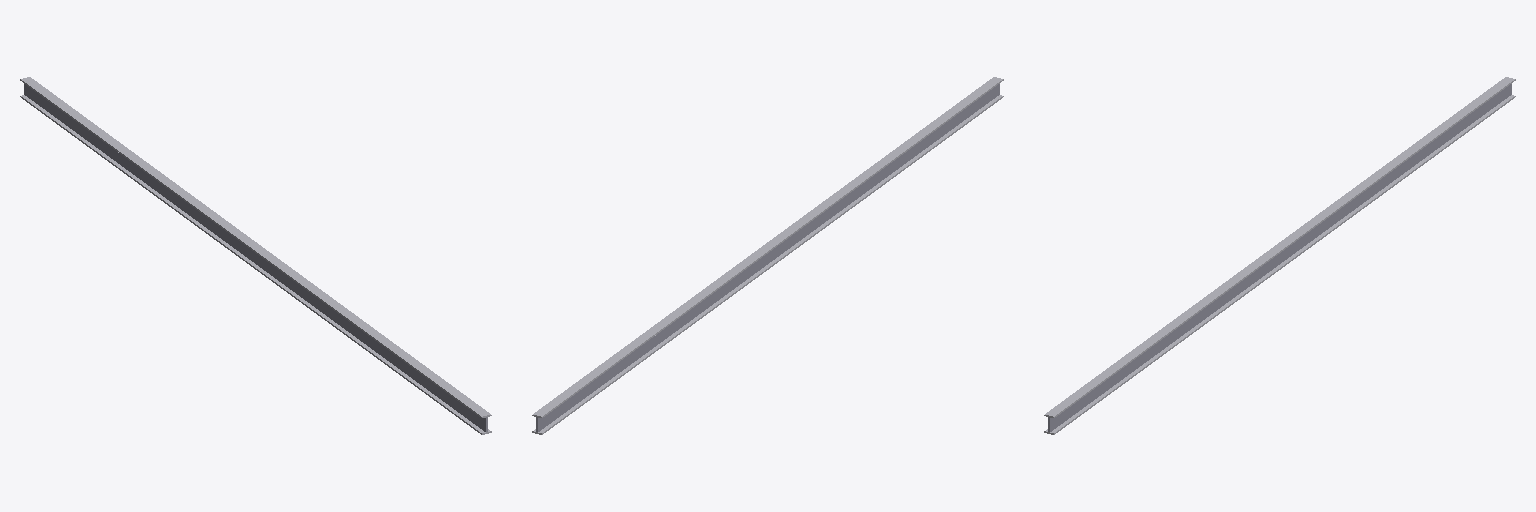
URDF robot description (h_bar):
<?xml version="1.0" ?>
<!-- =================================================================================== -->
<!-- |    This document was autogenerated by xacro from h_bar.xacro                    | -->
<!-- |    EDITING THIS FILE BY HAND IS NOT RECOMMENDED                                 | -->
<!-- =================================================================================== -->
<robot name="h_bar">
  <link name="world"/>
  <!-- Bottom leg (aligned with z-axis after rotation, below origin) -->
  <link name="hbar_bottom_leg">
    <visual>
      <origin rpy="0 1.57079633 0" xyz="0 0 0"/>
      <geometry>
        <!-- thickness x, profile width y, leg length along local z -->
        <box size="0.01 5.0 0.06"/>
      </geometry>
      <material name="hbar_material_bottom">
        <!-- Brushed steel-like gray -->
        <color rgba="0.75 0.75 0.78 1.0"/>
      </material>
    </visual>
    <collision>
      <origin rpy="0 1.57079633 0" xyz="0 0 0"/>
      <geometry>
        <box size="0.01 5.0 0.06"/>
      </geometry>
    </collision>
    <inertial>
      <origin rpy="0 0 0" xyz="0 0 0"/>
      <mass value="0.3333333333333333"/>
      <inertia ixx="0.6945444444444444" ixy="0.0" ixz="0.0" iyy="0.00010277777777777777" iyz="0.0" izz="0.6944472222222222"/>
    </inertial>
  </link>
  <!-- Top leg (aligned with z-axis after rotation, above origin) -->
  <link name="hbar_top_leg">
    <visual>
      <origin rpy="0 1.57079633 0" xyz="0 0 0"/>
      <geometry>
        <box size="0.01 5.0 0.06"/>
      </geometry>
      <material name="hbar_material_top">
        <!-- Brushed steel-like gray -->
        <color rgba="0.75 0.75 0.78 1.0"/>
      </material>
    </visual>
    <collision>
      <origin rpy="0 1.57079633 0" xyz="0 0 0"/>
      <geometry>
        <box size="0.01 5.0 0.06"/>
      </geometry>
    </collision>
    <inertial>
      <origin rpy="0 0 0" xyz="0 0 0"/>
      <mass value="0.3333333333333333"/>
      <inertia ixx="0.6945444444444444" ixy="0.0" ixz="0.0" iyy="0.00010277777777777777" iyz="0.0" izz="0.6944472222222222"/>
    </inertial>
  </link>
  <!-- Crossbar: vertical (aligned with z-axis) at the origin -->
  <link name="hbar_crossbar">
    <visual>
      <!-- Thickness in x,y, length in z -->
      <origin rpy="0 0 0" xyz="0 0 0"/>
      <geometry>
        <box size="0.01 5.0 0.1"/>
      </geometry>
      <material name="hbar_material_cross">
        <!-- Slightly darker steel for visual contrast -->
        <color rgba="0.65 0.65 0.7 1.0"/>
      </material>
    </visual>
    <collision>
      <origin rpy="0 0 0" xyz="0 0 0"/>
      <geometry>
        <box size="0.01 5.0 0.1"/>
      </geometry>
    </collision>
    <inertial>
      <origin rpy="0 0 0" xyz="0 0 0"/>
      <mass value="0.3333333333333333"/>
      <inertia ixx="0.6947222222222222" ixy="0.0" ixz="0.0" iyy="0.0002805555555555556" iyz="0.0" izz="0.6944472222222222"/>
    </inertial>
  </link>
  <!-- Fix crossbar to world; its center is at the macro pose -->
  <joint name="hbar_cross_fix" type="fixed">
    <parent link="world"/>
    <child link="hbar_crossbar"/>
    <origin rpy="0 0 0" xyz="0 0 0"/>
  </joint>
  <!-- Top leg: translated +L_leg/2 in x and +L_span/2 in z relative to crossbar -->
  <joint name="hbar_top_fix" type="fixed">
    <parent link="hbar_crossbar"/>
    <child link="hbar_top_leg"/>
    <origin rpy="0 0.0 0" xyz="0 0 0.05"/>
  </joint>
  <!-- Bottom leg: translated +L_leg/2 in x and -L_span/2 in z relative to crossbar -->
  <joint name="hbar_bottom_fix" type="fixed">
    <parent link="hbar_crossbar"/>
    <child link="hbar_bottom_leg"/>
    <origin rpy="0 0 0" xyz="0 0 -0.05"/>
  </joint>
</robot>

--- Facts derived from the render (not from the file) ---
3 views of the same robot in one strip: view 1: azimuth 30°, elevation 25°; view 2: azimuth 150°, elevation 25°; view 3: azimuth 330°, elevation 25° (orthographic).
Model h_bar with 4 links and 3 joints (3 fixed), rooted at world, posed every joint at zero.
Visible links, largest first — view 1: hbar_crossbar, hbar_top_leg, hbar_bottom_leg; view 2: hbar_crossbar, hbar_top_leg, hbar_bottom_leg; view 3: hbar_crossbar, hbar_top_leg, hbar_bottom_leg.
Link boxes in pixels (<box>): hbar_crossbar: <box>24,84,487,431</box>; hbar_top_leg: <box>20,77,491,417</box>; hbar_bottom_leg: <box>20,95,491,434</box>; hbar_crossbar: <box>536,84,999,431</box>; hbar_top_leg: <box>532,77,1003,417</box>; hbar_bottom_leg: <box>532,95,1003,434</box>; hbar_crossbar: <box>1048,84,1511,431</box>; hbar_top_leg: <box>1044,77,1515,417</box>; hbar_bottom_leg: <box>1044,95,1515,434</box>.
Size in the robot's own frame: 0.06 by 5 by 0.11 metres.
Geometry: primitives only (box / cylinder / sphere), no mesh files.
